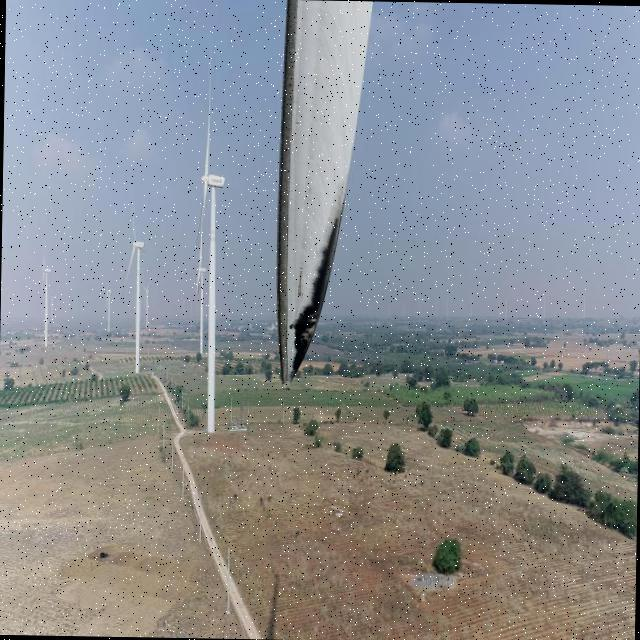Dirt: (285, 1, 377, 382)
Oil LEAKAGE: (295, 217, 340, 374)
Pin Hole: (285, 321, 297, 332)
